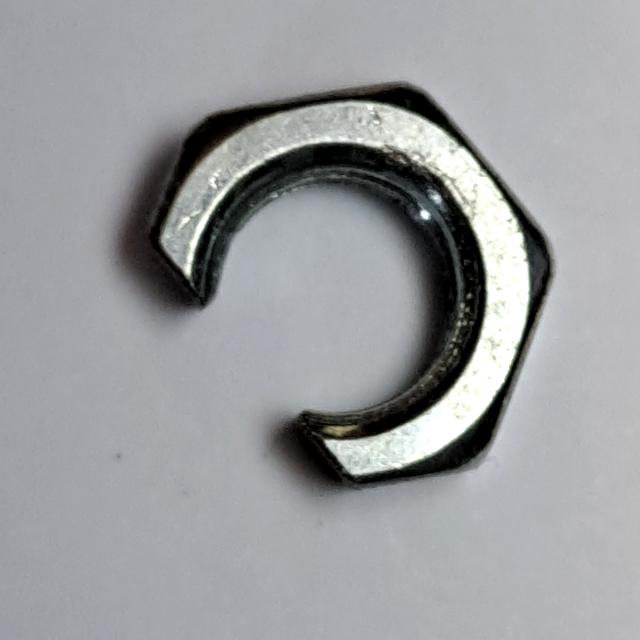Fracture: (134, 70, 563, 500)
